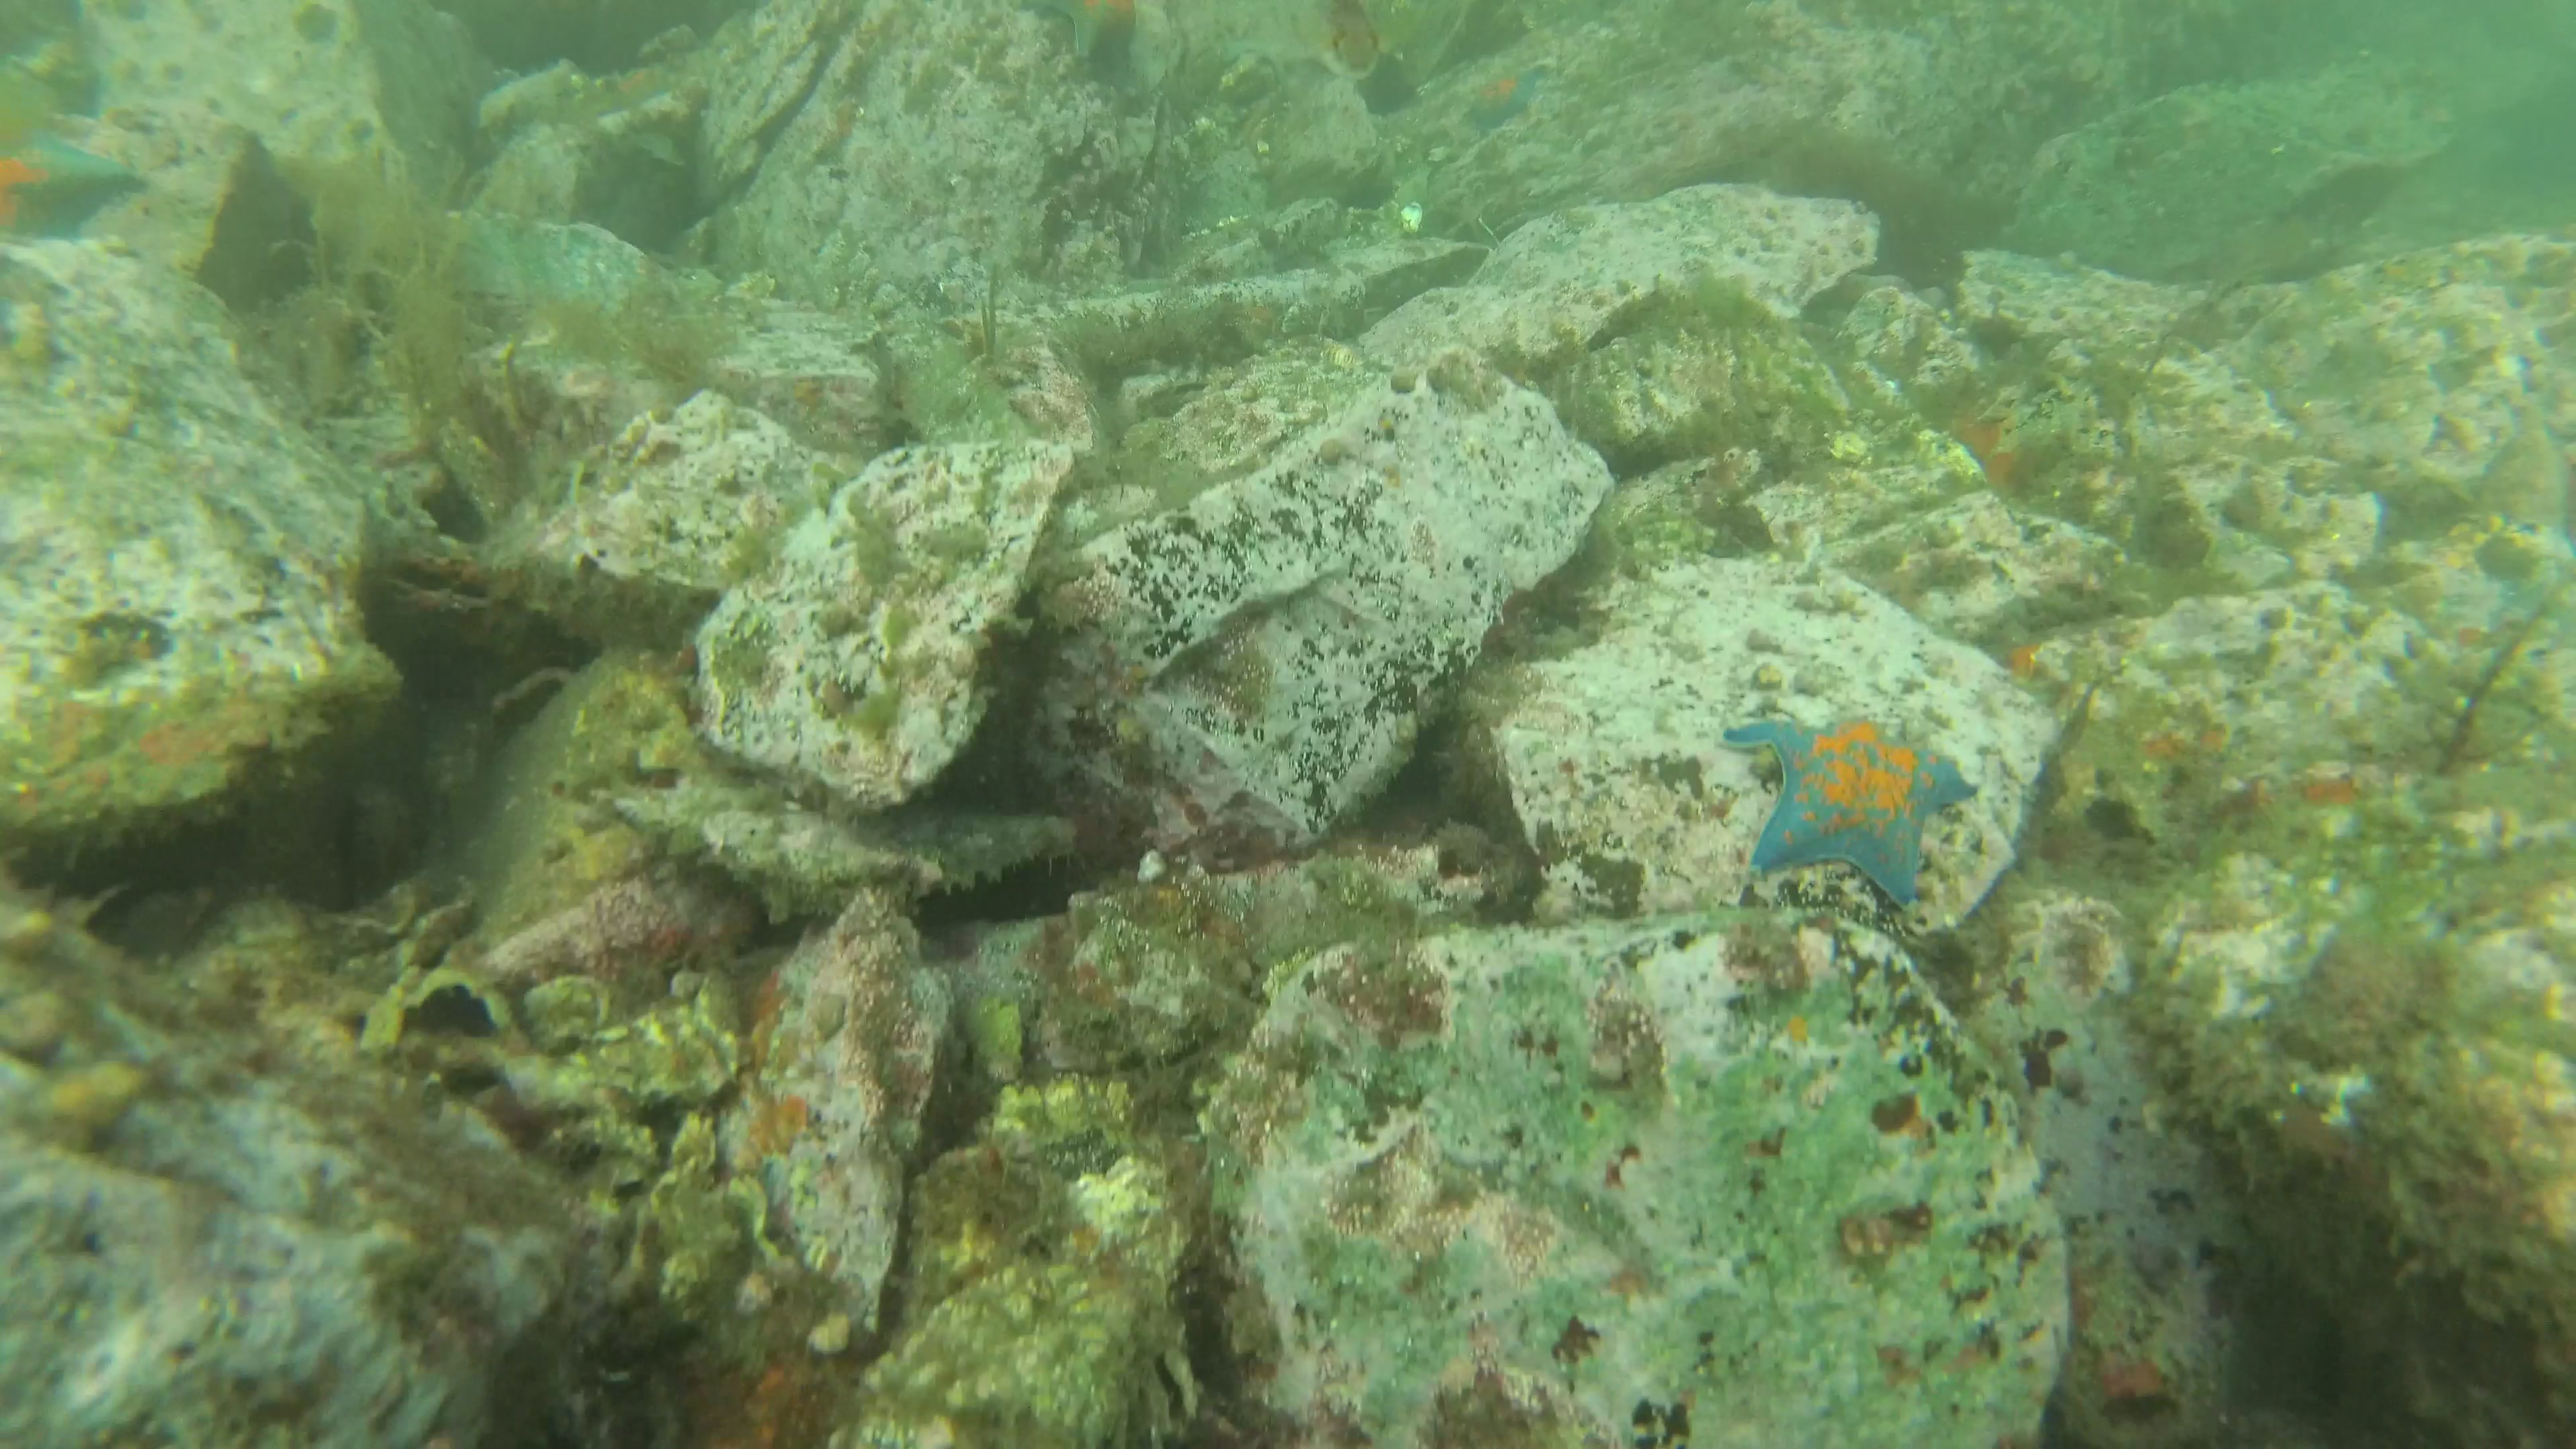starfish: (1721, 720, 1982, 916), (0, 133, 150, 262), (1458, 64, 1548, 138)
